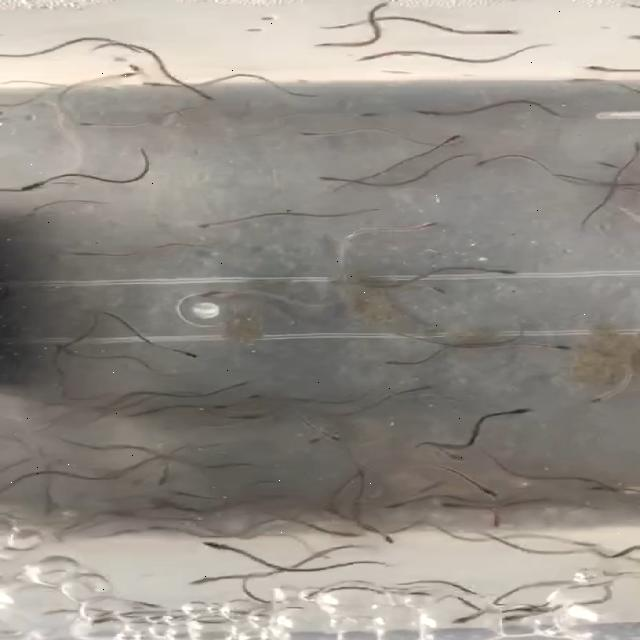active_glass_eel: (378, 494, 416, 512), (474, 484, 508, 504), (565, 74, 613, 88), (159, 344, 199, 360), (451, 608, 490, 624), (466, 266, 522, 277), (398, 381, 441, 395), (17, 178, 54, 194), (582, 388, 614, 406), (101, 67, 142, 81), (120, 62, 155, 78), (580, 59, 620, 73), (202, 538, 242, 552), (46, 342, 82, 357), (418, 282, 456, 296), (540, 340, 576, 354), (568, 536, 604, 550), (354, 50, 389, 64), (353, 107, 393, 119), (222, 412, 270, 422), (191, 572, 230, 584), (286, 130, 332, 140), (404, 218, 438, 231), (492, 406, 536, 416), (438, 134, 468, 148), (318, 431, 346, 446), (302, 434, 328, 450), (189, 84, 215, 100), (68, 120, 102, 132), (233, 391, 270, 402), (194, 218, 223, 232), (474, 157, 505, 170), (373, 528, 398, 544), (582, 481, 612, 494), (58, 250, 90, 262), (482, 512, 506, 528), (621, 138, 640, 158), (501, 610, 532, 622), (150, 470, 172, 486), (188, 289, 228, 297), (318, 175, 348, 185), (378, 358, 408, 368), (130, 81, 164, 89), (491, 28, 524, 36)
